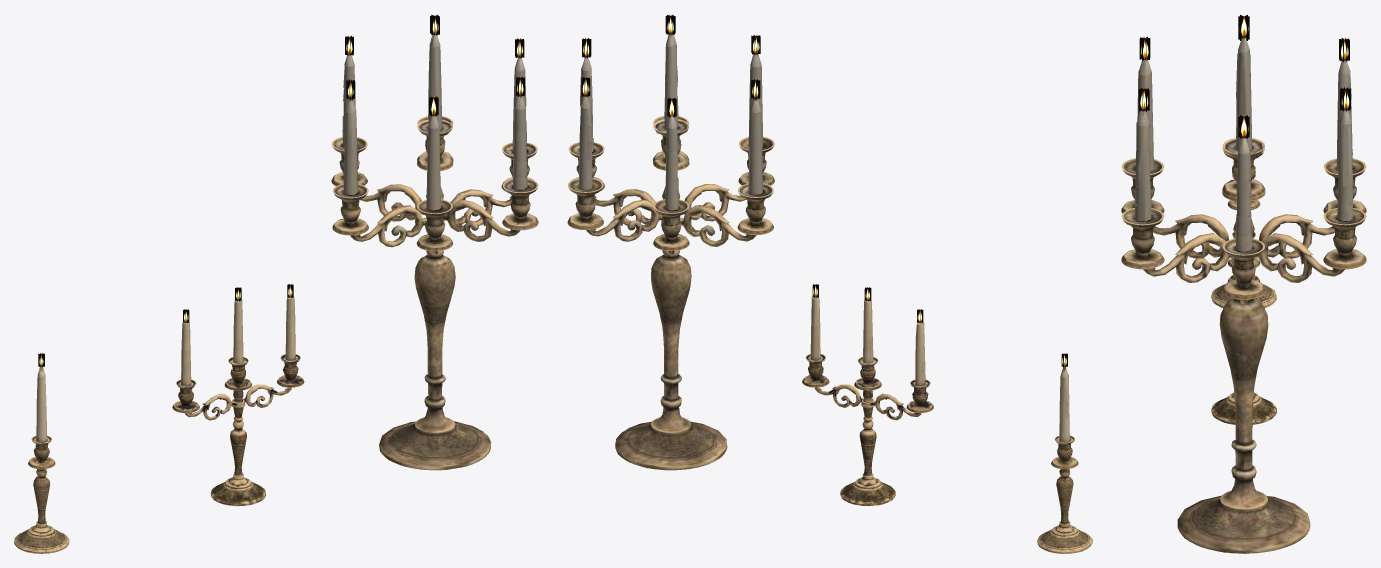
The model's file is prop_brazier.glb.
3 renders of one model, left to right at view 1: azimuth 30°, elevation 25°; view 2: azimuth 150°, elevation 25°; view 3: azimuth 270°, elevation 25°, orthographic. The views are drawn at different scales.
Visible parts, largest first — view 1: PROP_Brazier; view 2: PROP_Brazier; view 3: PROP_Brazier.
Boxes of the visible parts, <box> form: PROP_Brazier: <box>14,14,538,553</box>; PROP_Brazier: <box>567,14,1092,553</box>; PROP_Brazier: <box>1121,15,1366,553</box>.
Bounding box in the file's own units: 1.45 × 1.15 × 0.5021.
5 materials, 5 textured.
